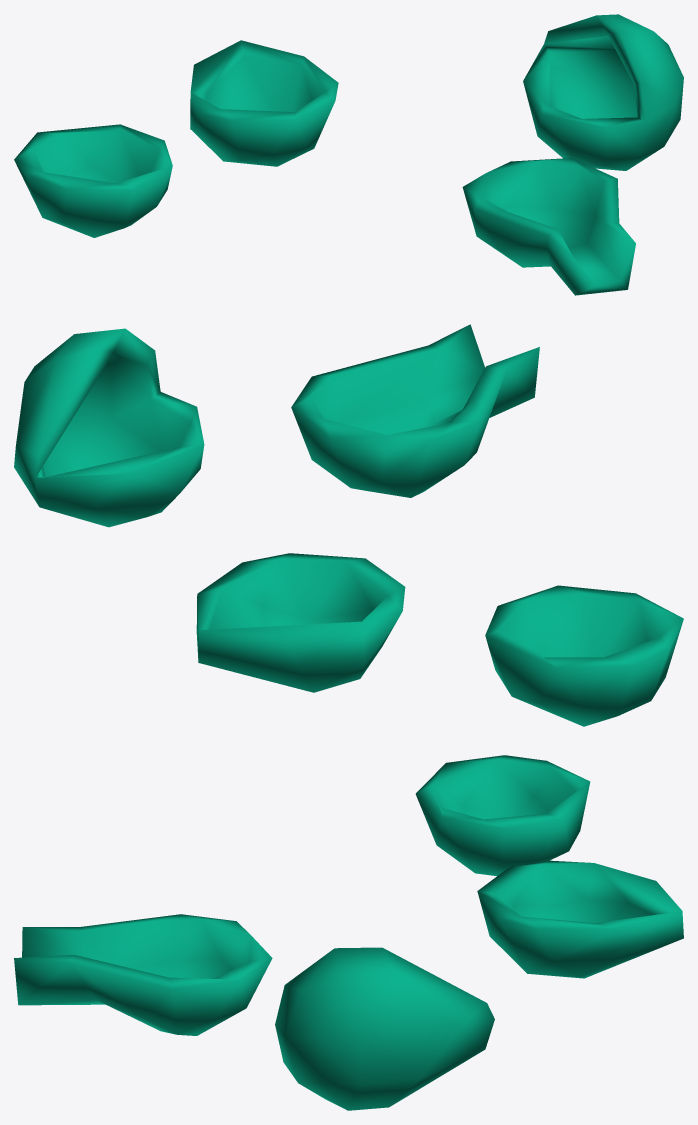
The model's file is perox1.glb.
3 views of the same model, one above another, from view 1: azimuth 30°, elevation 25°; view 2: azimuth 150°, elevation 25°; view 3: azimuth 270°, elevation 25° (orthographic). The views are drawn at different scales.
Visible parts, largest first — view 1: Peroxisome.003; view 2: Peroxisome.003; view 3: Peroxisome.003.
Boxes of the visible parts, left/top/right/bottom form: Peroxisome.003: left=14, top=14, right=683, bottom=295; Peroxisome.003: left=14, top=324, right=683, bottom=726; Peroxisome.003: left=14, top=755, right=683, bottom=1110.
Bounding box in the file's own units: 4.14 × 0.9985 × 3.79.
